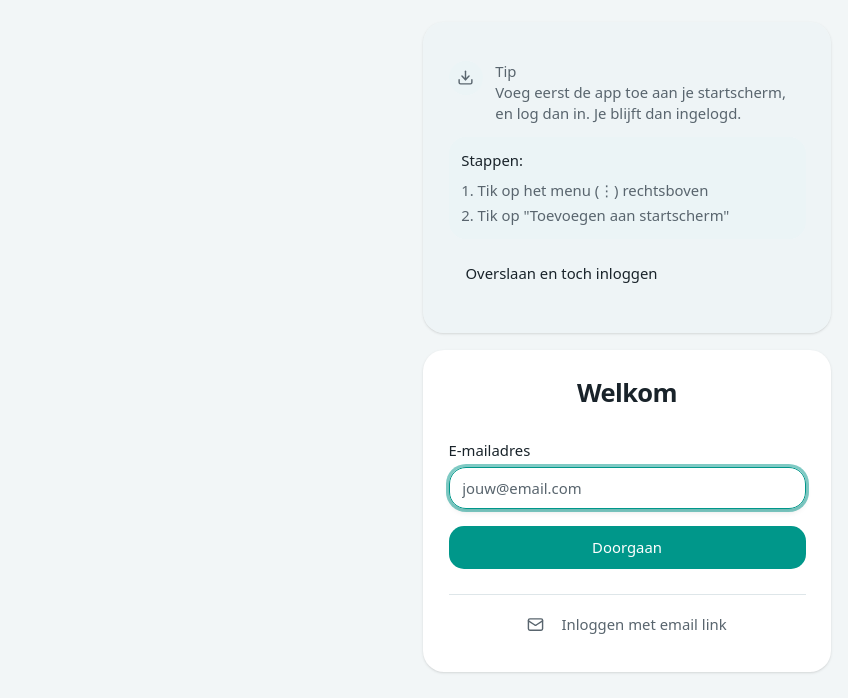
Test: LoginPage › password step › shows error on invalid credentials
Type "test@example.com" into the field labelled "E-mailadres" at (627, 488), box [448,466,806,509]
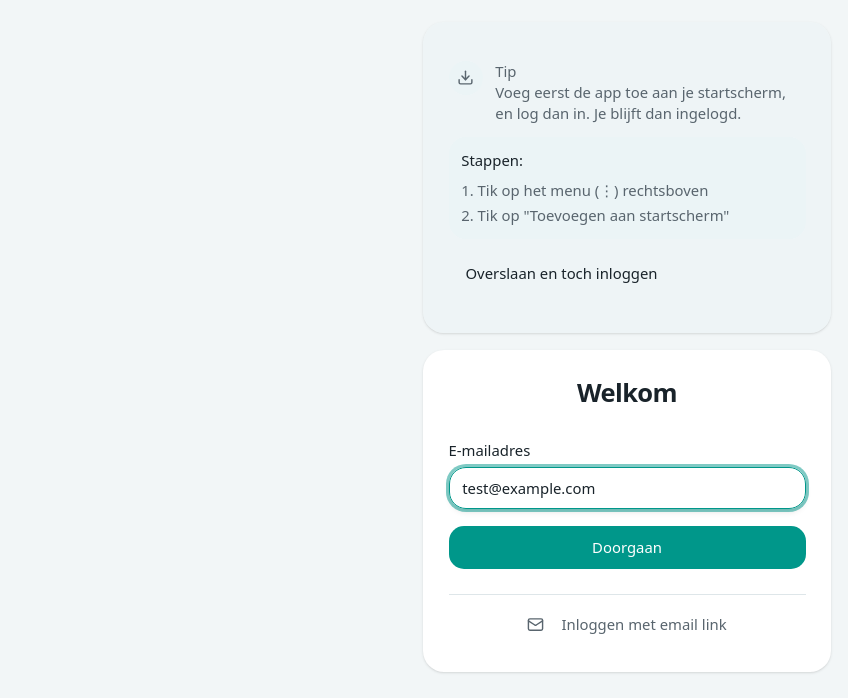
Click the button "Doorgaan" at (627, 547), box [448,526,806,568]
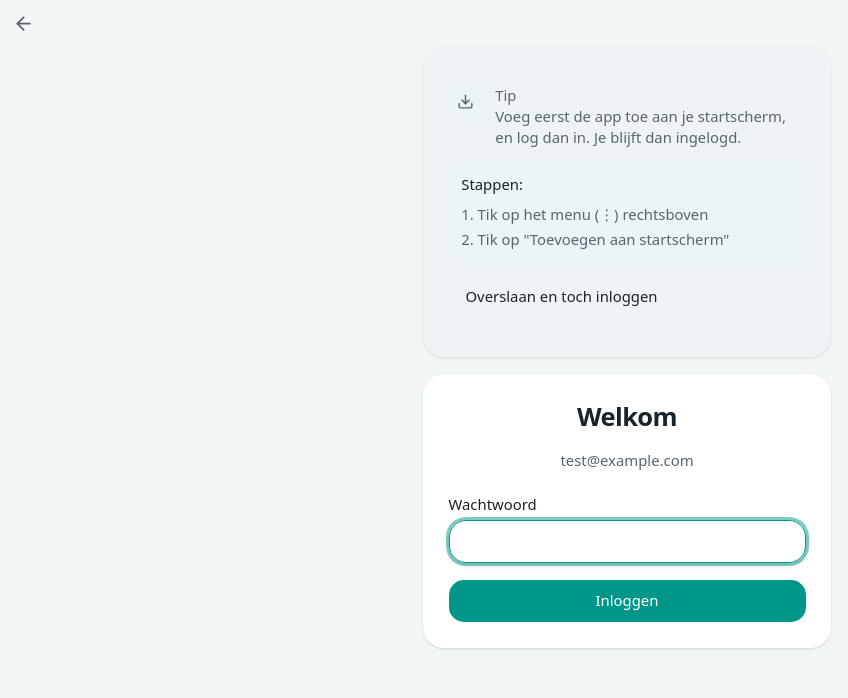
Expected: the password field labelled "Wachtwoord" is shown
Type "wrongpassword" into the password field labelled "Wachtwoord" at (627, 541), box [448,520,806,563]
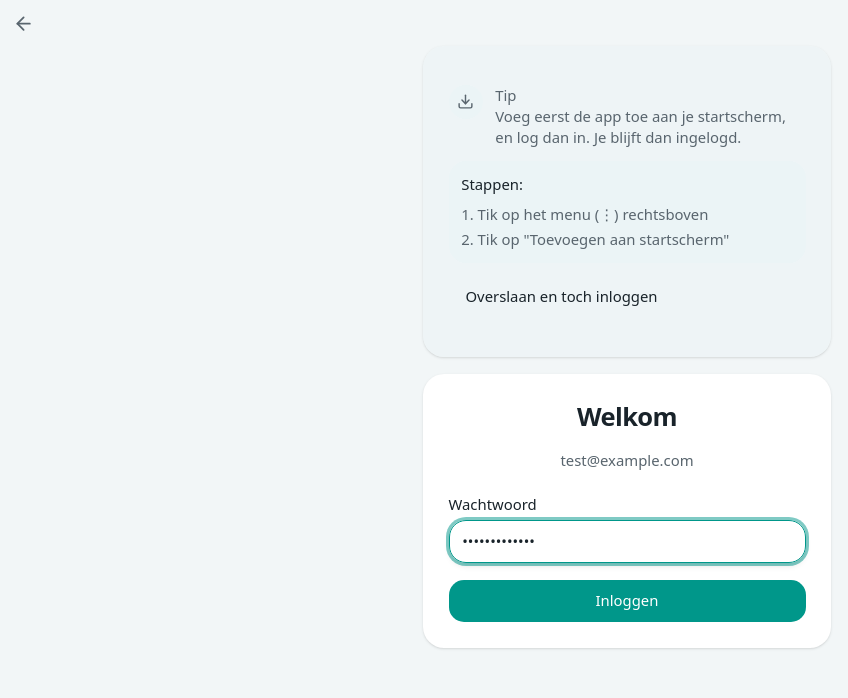
Click the button "Inloggen" at (627, 601), box [448,580,806,622]
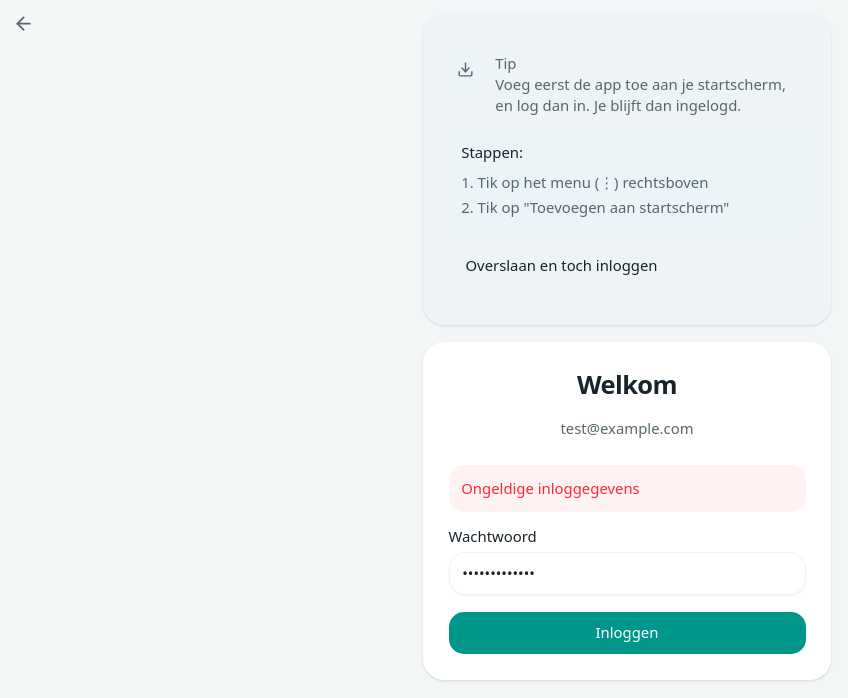
Expected: the text "Ongeldige inloggegevens" is shown, [448,465,806,512]
